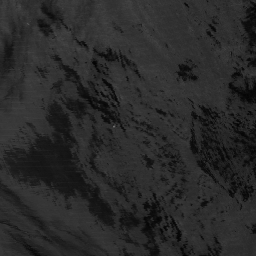Target: (111, 123, 116, 130)
